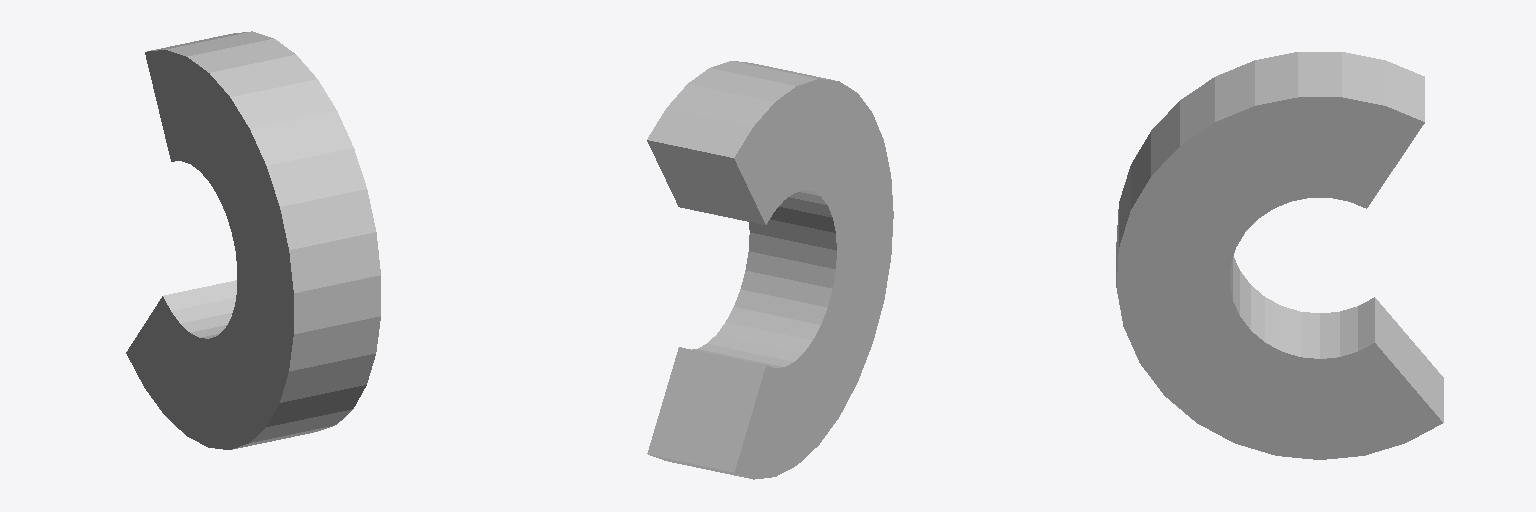
Rendered from letter12.obj.
3 renders of one model, left to right at view 1: azimuth 30°, elevation 25°; view 2: azimuth 150°, elevation 25°; view 3: azimuth 270°, elevation 25°, orthographic.
Visible parts, largest first — view 1: pCylinder1; view 2: pCylinder1; view 3: pCylinder1.
Part boxes in pixels (left/top/right/bottom): pCylinder1: left=126, top=31, right=380, bottom=449; pCylinder1: left=647, top=61, right=893, bottom=479; pCylinder1: left=1116, top=52, right=1443, bottom=459.
Size of the model in its own units: 0.5597 by 2.01 by 1.6.